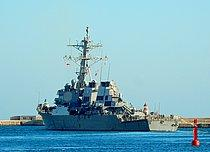MIL_Ship: (36, 27, 180, 133)
